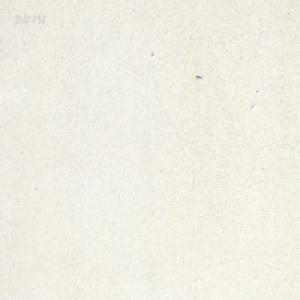Nail: (196, 74, 202, 78)
